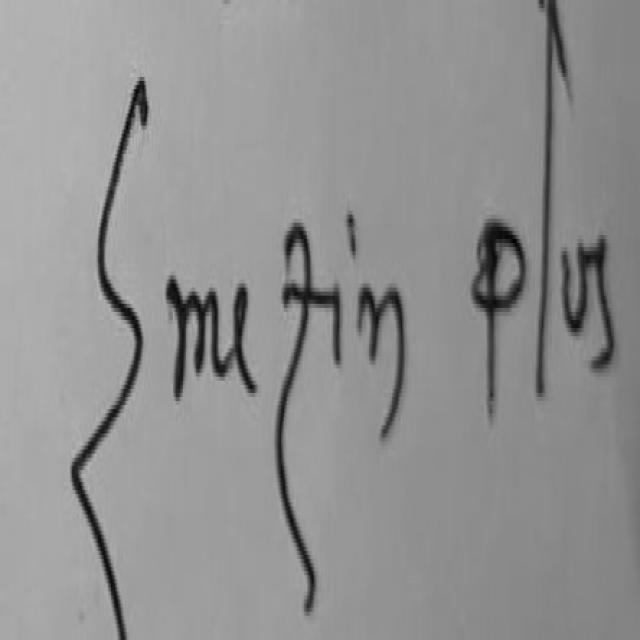E: (71, 77, 147, 638)
e: (234, 284, 257, 391)
i: (334, 292, 340, 363), (348, 211, 356, 253)
l: (538, 0, 571, 391)
m: (166, 275, 234, 395)
n: (357, 279, 404, 435)
p: (486, 219, 526, 415)
s: (594, 235, 615, 367)
u: (564, 249, 588, 330)
z: (277, 223, 333, 610)
